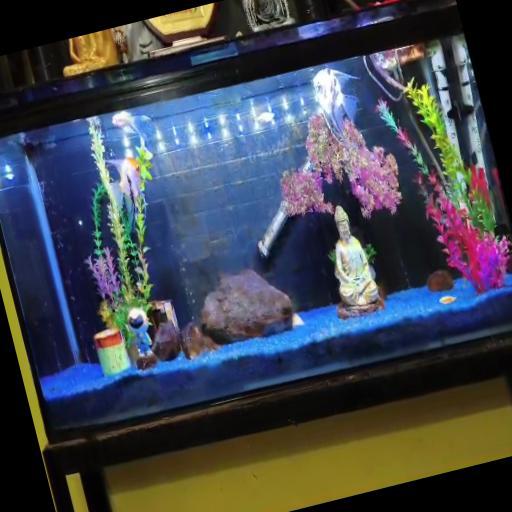Fish: (312, 67, 358, 140), (106, 157, 142, 229), (112, 111, 152, 140), (257, 111, 274, 123)
